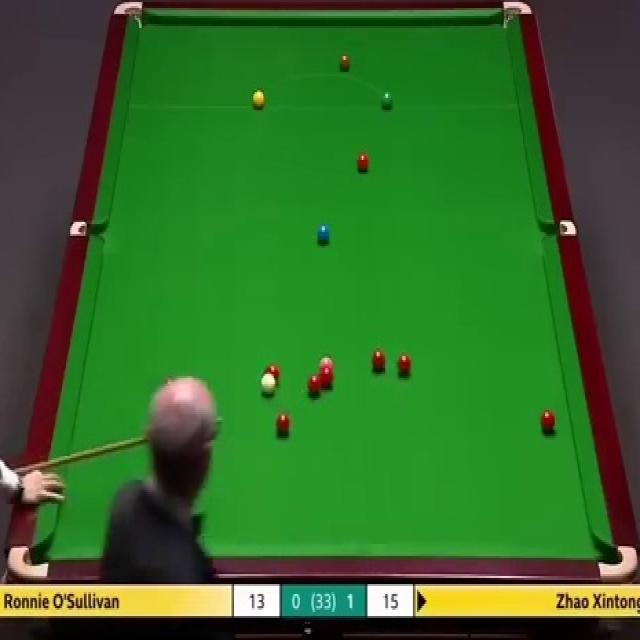blue-ball: (317, 224, 330, 243)
brown-ball: (338, 53, 350, 71)
green-ball: (380, 89, 393, 110)
pink-ball: (318, 354, 335, 372)
red-ball: (538, 408, 557, 431), (271, 414, 289, 438), (396, 354, 412, 376), (265, 365, 281, 386), (372, 347, 386, 370), (308, 375, 322, 397), (356, 153, 369, 174), (318, 370, 334, 387)
white-ball: (261, 376, 276, 396)
yellow-ball: (252, 90, 264, 108)
